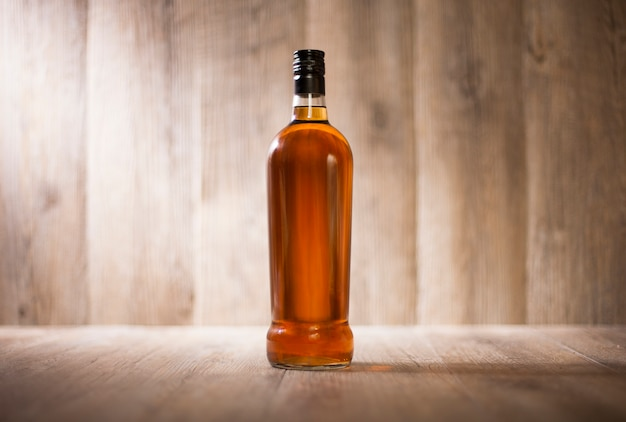alcohol: (266, 48, 355, 369)
